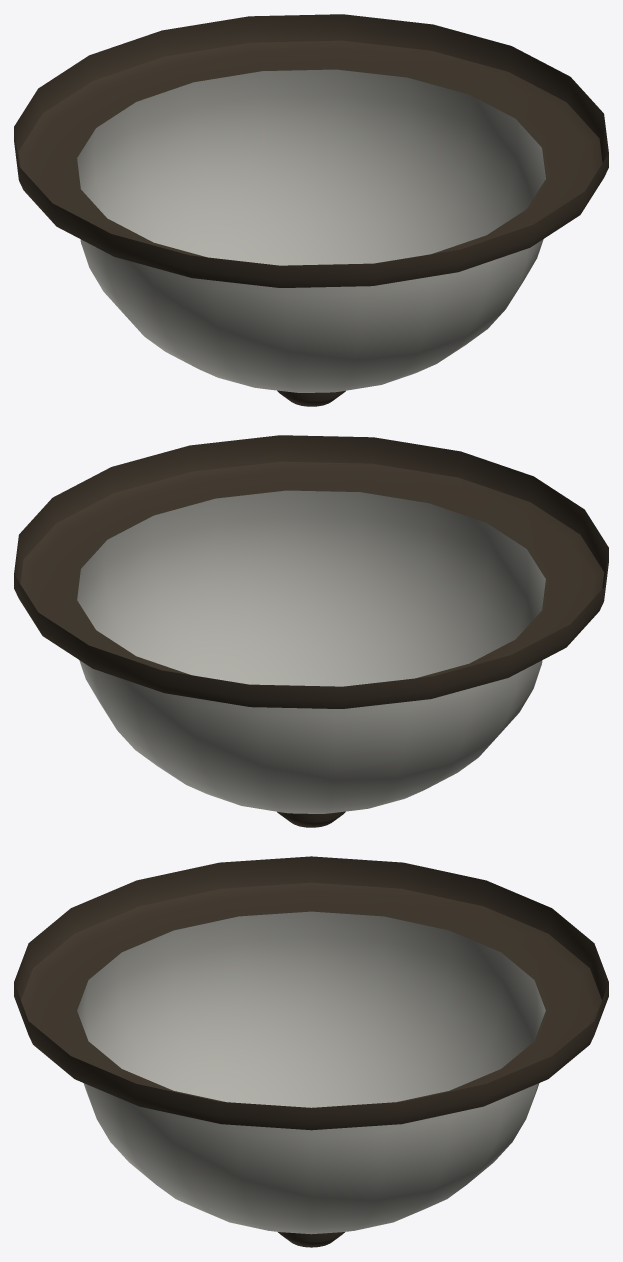
The model's file is SM_Lamp.fbx.
3 views of the same model, one above another, from view 1: azimuth 30°, elevation 25°; view 2: azimuth 150°, elevation 25°; view 3: azimuth 270°, elevation 25° (orthographic).
Visible parts, largest first — view 1: Lamp1; view 2: Lamp1; view 3: Lamp1.
Boxes of the visible parts, bbox=[...] form: Lamp1: bbox=[14, 14, 608, 406]; Lamp1: bbox=[14, 435, 608, 827]; Lamp1: bbox=[14, 856, 608, 1247].
Size of the model in its own units: 12481 by 5946 by 12481.
1 material, 1 textured.
